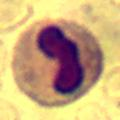monocyte: (12, 19, 105, 107)
